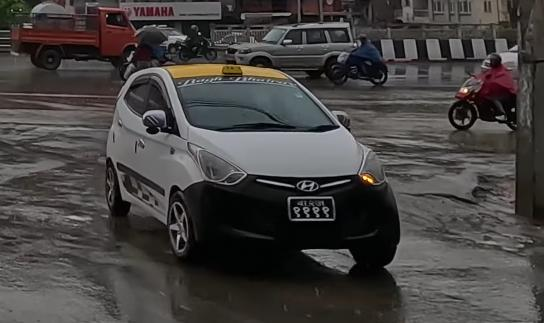SUV: (224, 18, 358, 77)
bike: (446, 65, 528, 135), (329, 45, 390, 87), (176, 34, 216, 62)
taxi: (102, 60, 410, 273)
